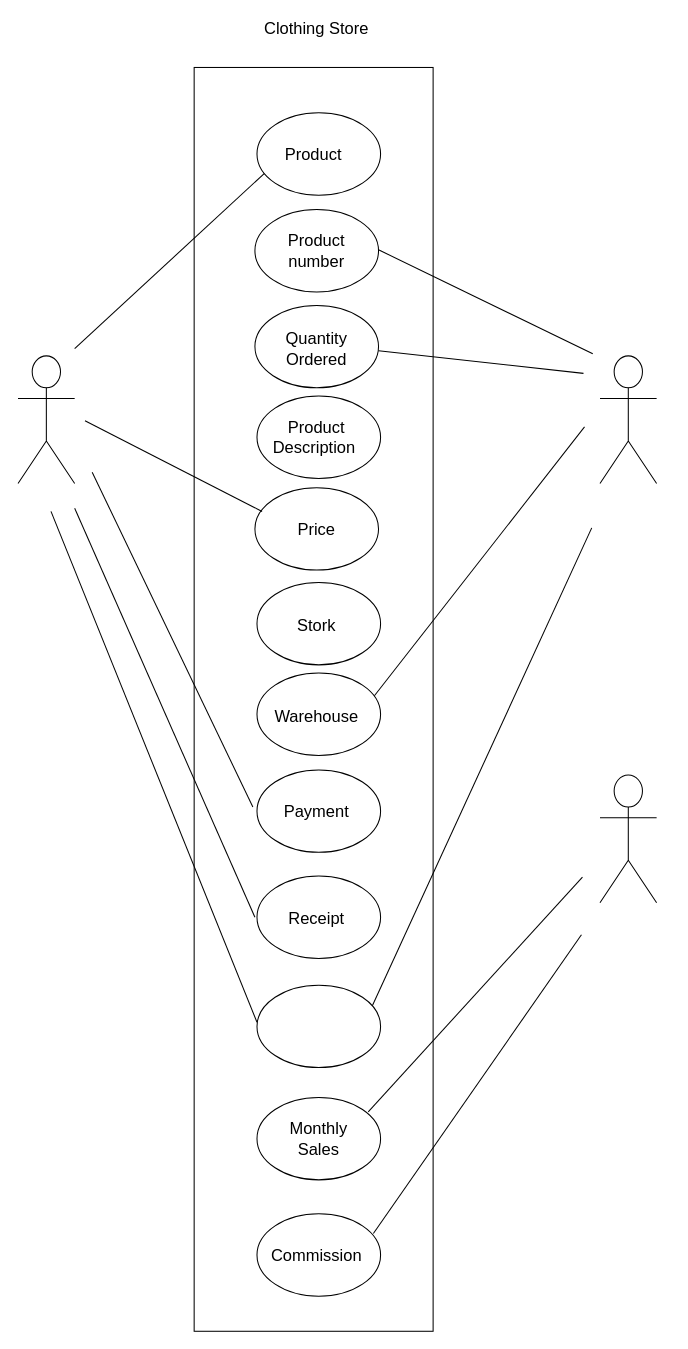
Some shapes in this 688 by 1349 pixel diagram are drawn without their labels. Each missing label, with the centre of its shape:
"Customer" goes at point (46, 419).
"Returns" goes at point (318, 1026).
"Sales Assistant" goes at point (628, 419).
"Sales Manager" goes at point (628, 838).
